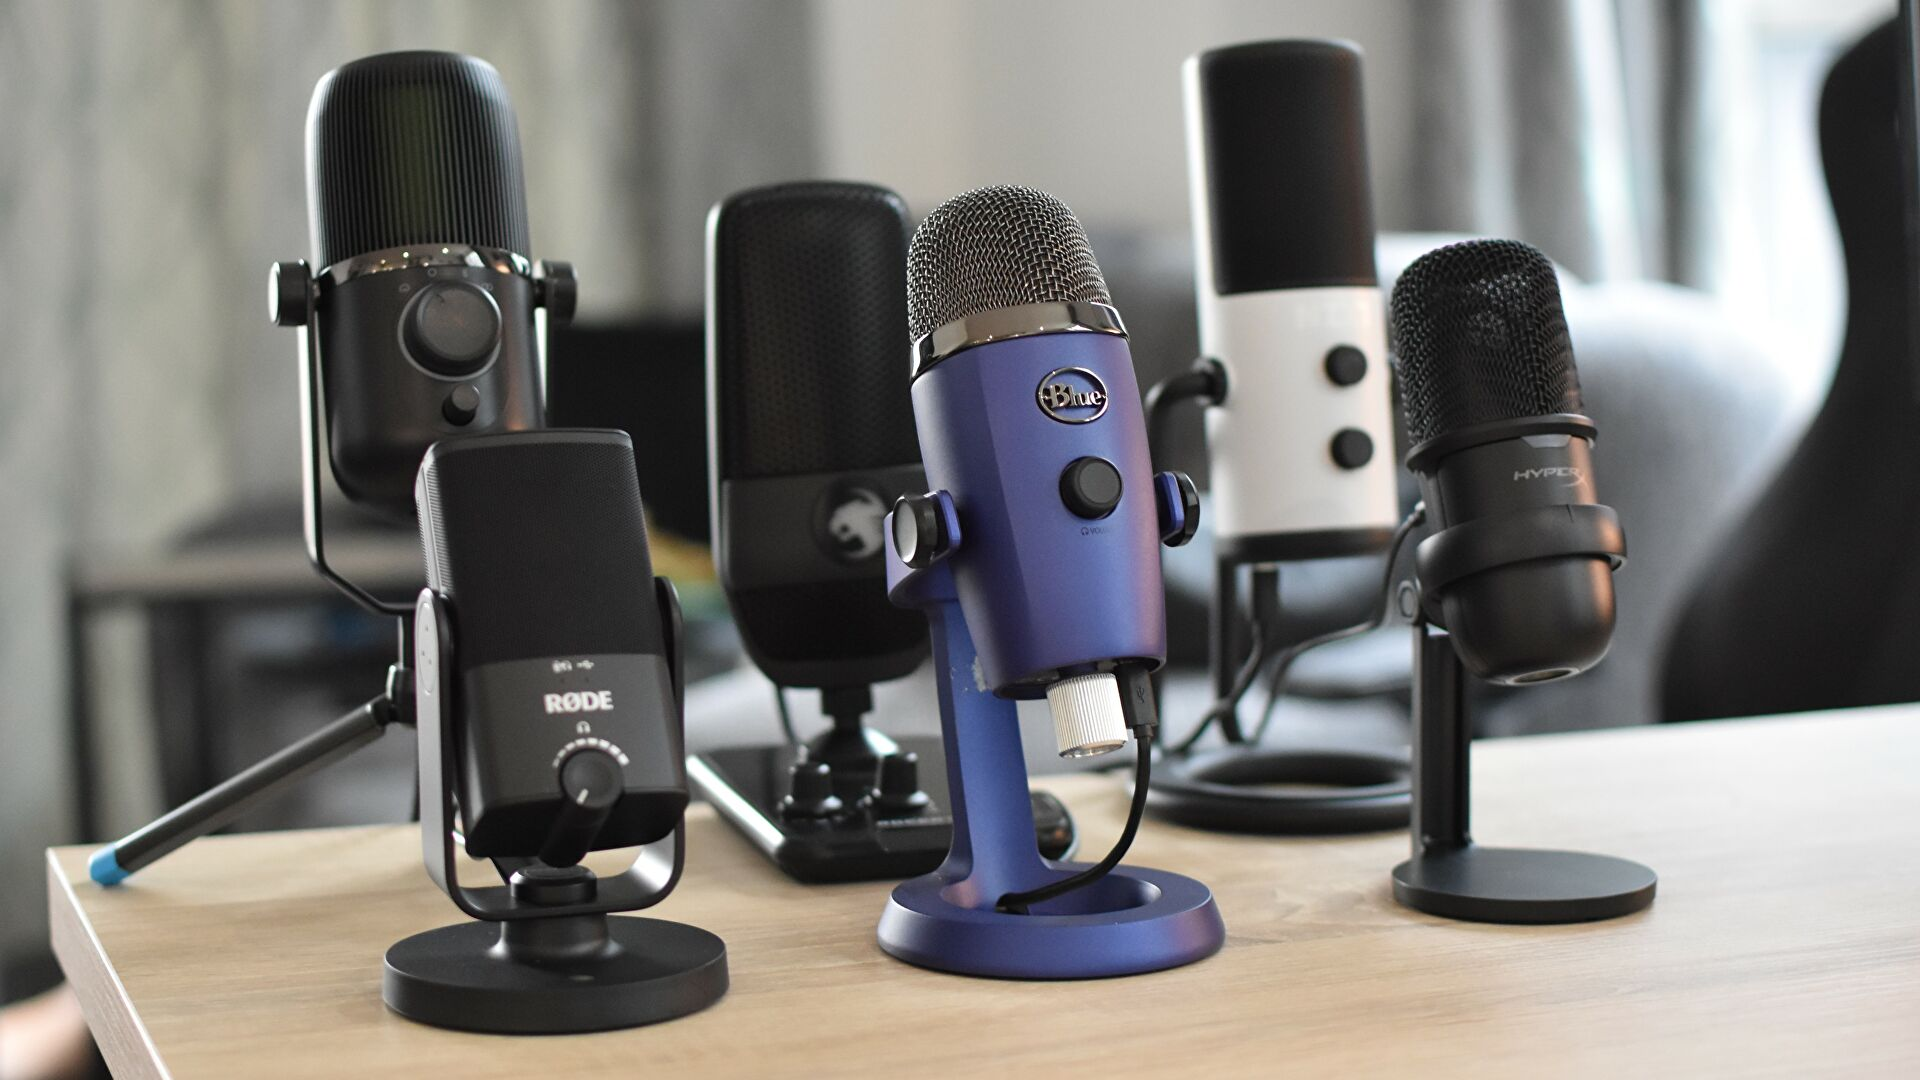microphone: (895, 189, 1203, 715), (260, 45, 560, 525), (696, 175, 963, 692), (406, 422, 700, 885), (1170, 25, 1416, 568), (1375, 232, 1636, 698)
